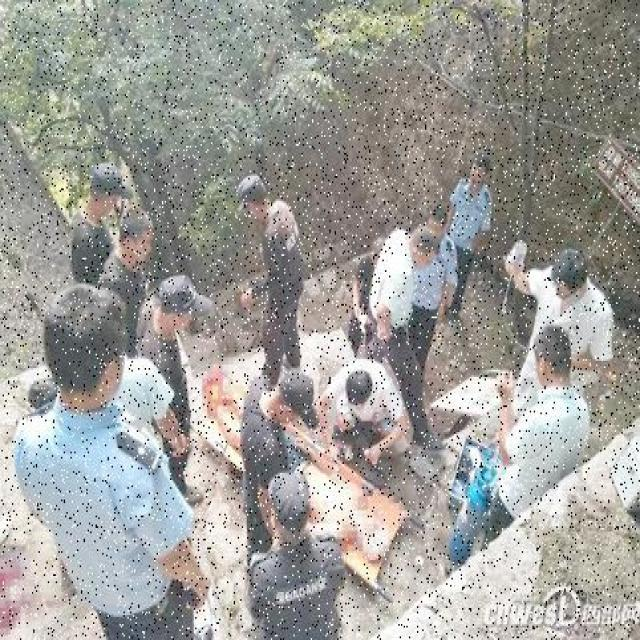fall: (222, 386, 388, 548)
